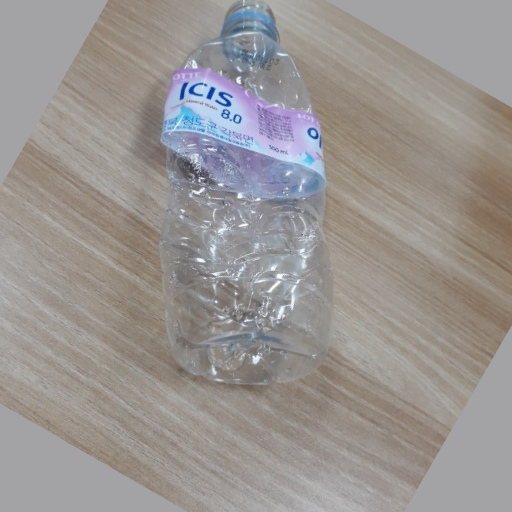Plastic_0: (155, 1, 337, 388)
